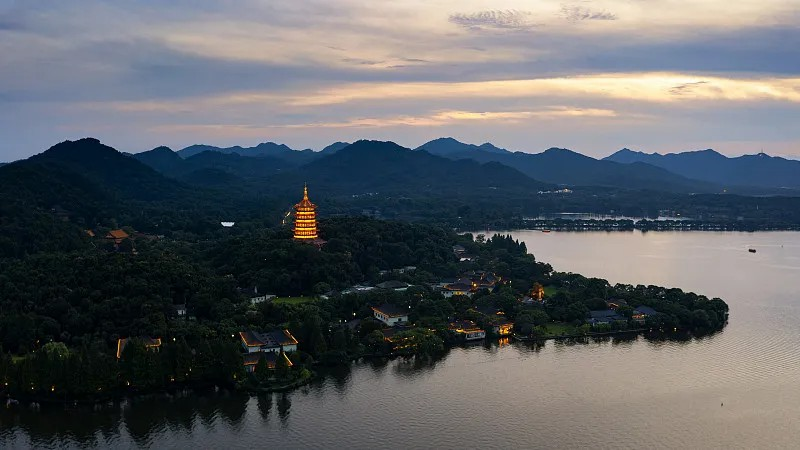Leifeng: (293, 184, 319, 243)
